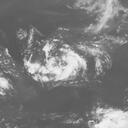cyclone: (23, 39, 91, 86)
